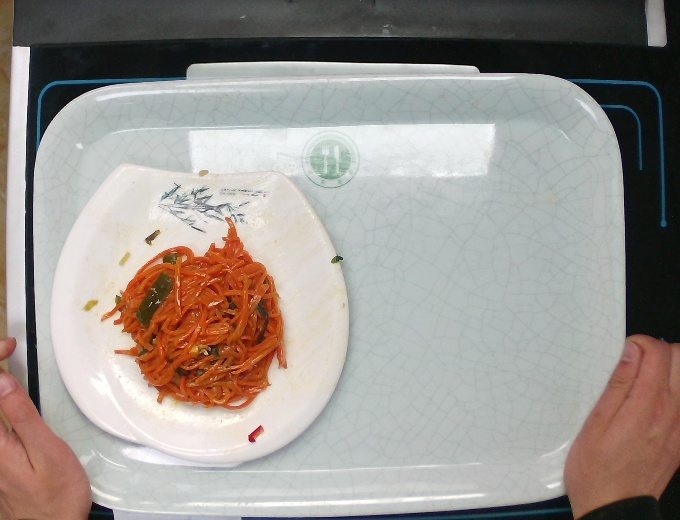JYsf-Mian_Pan: (49, 162, 355, 466)
